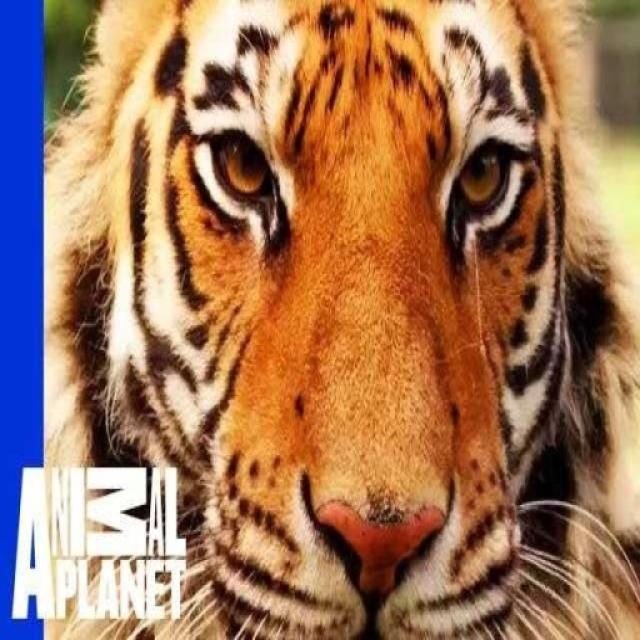tiger: (40, 0, 639, 639)
